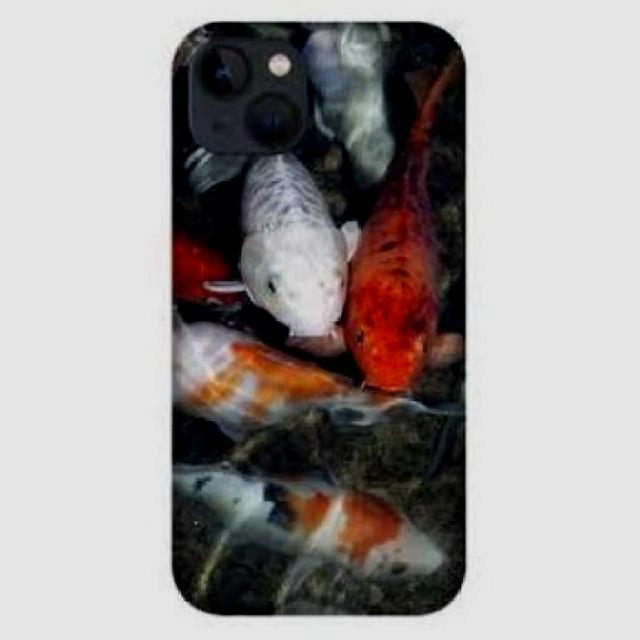ikan-mas: (176, 450, 458, 584), (348, 104, 448, 386), (237, 156, 346, 339)
